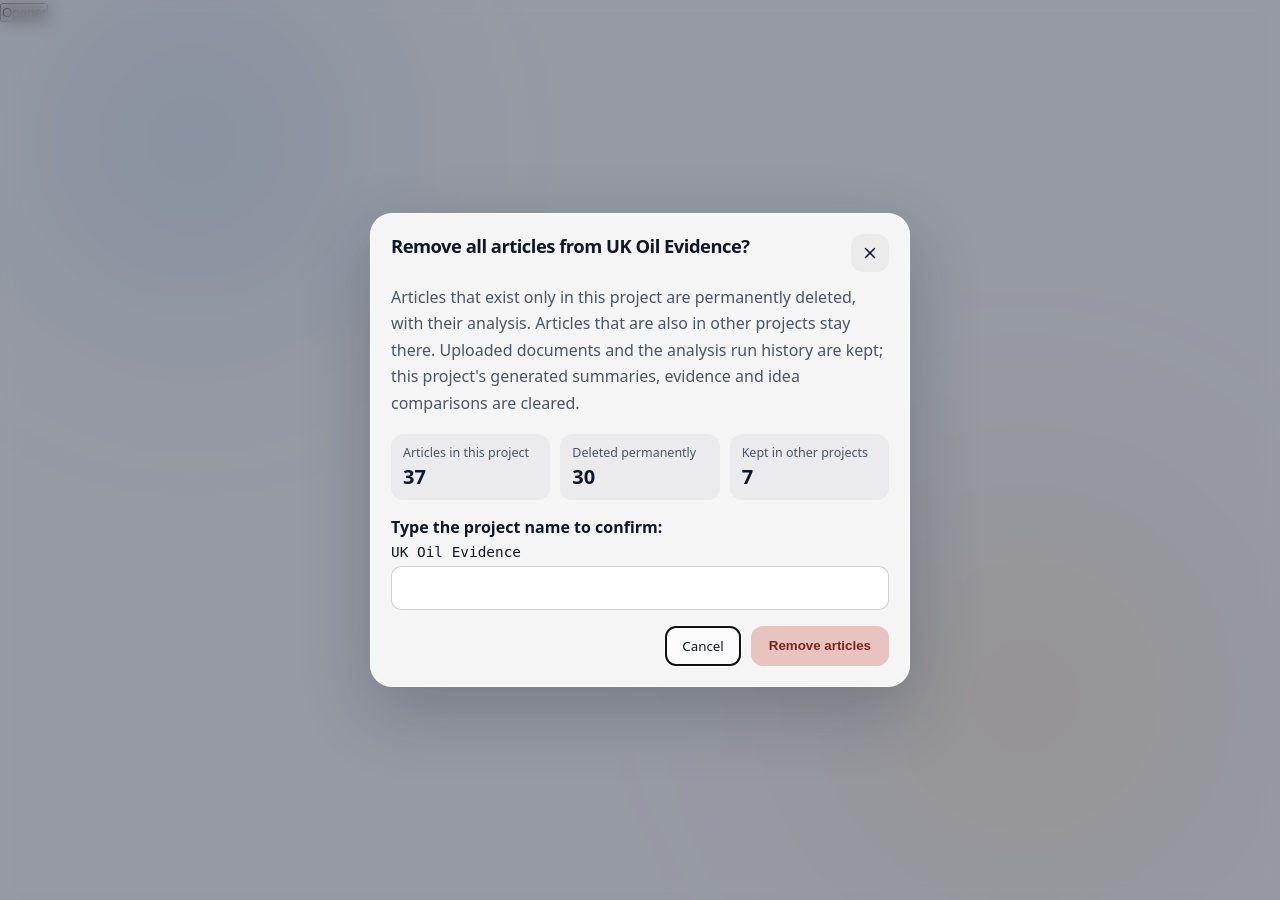
Test case: RemoveProjectArticlesDialog › shows a failed removal inside the dialog instead of closing it
Type "UK Oil Evidence" into the field labelled "Type the project name to confirm:" at (640, 588), box [391,566,889,610]
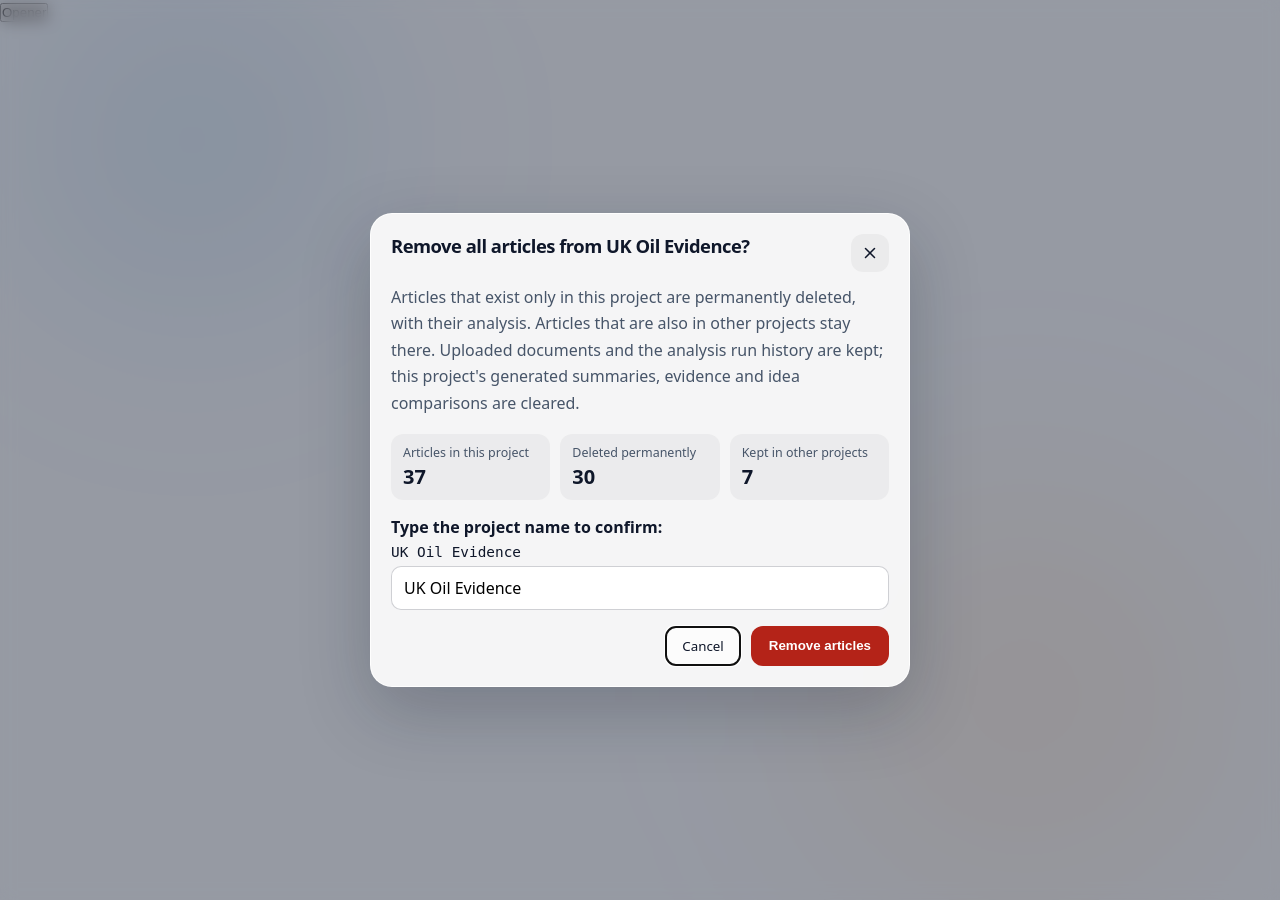
Click the button "Remove articles" at (820, 646), box [751,626,889,666]
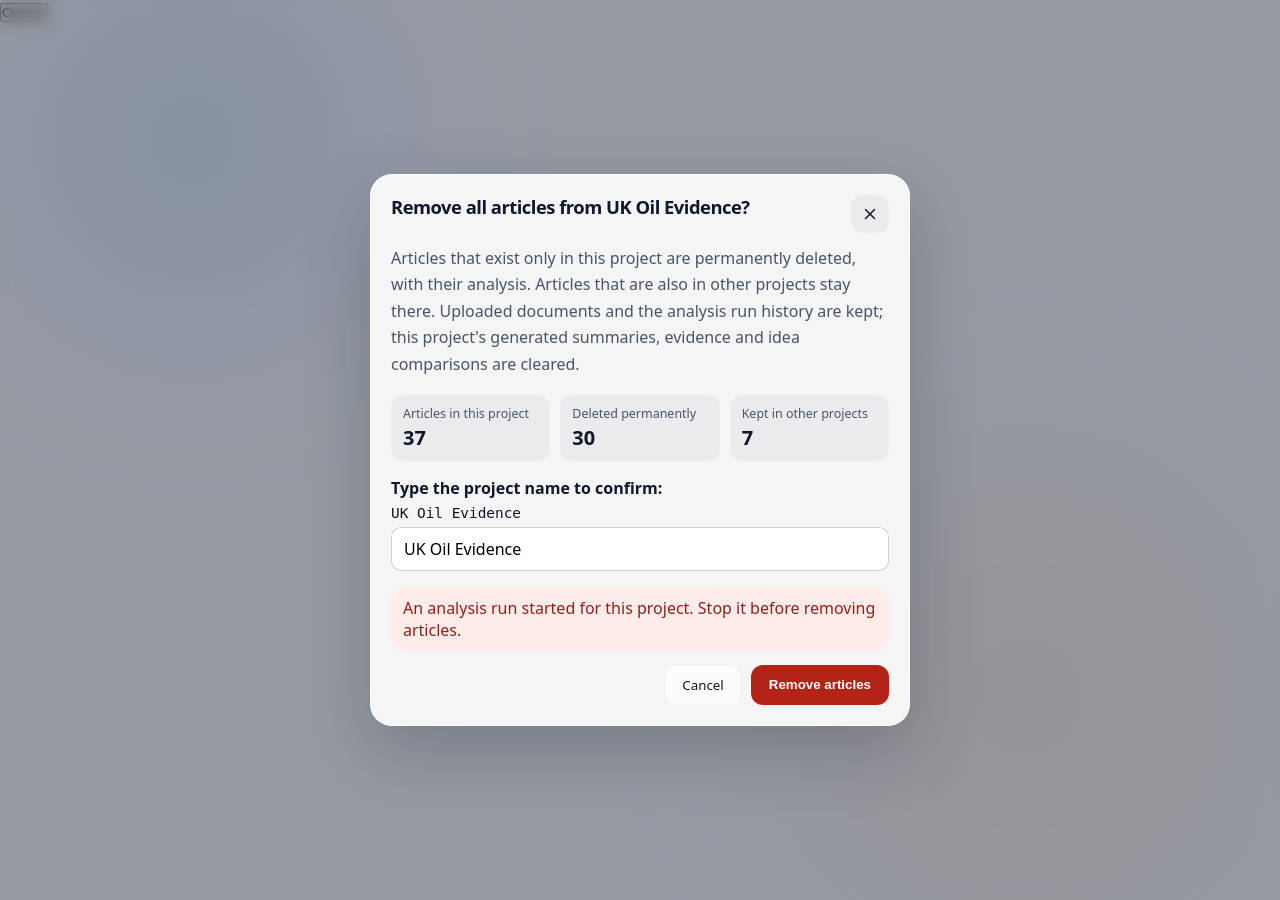
Now the message shows "An analysis run started for this project", box [403,597,875,641]
